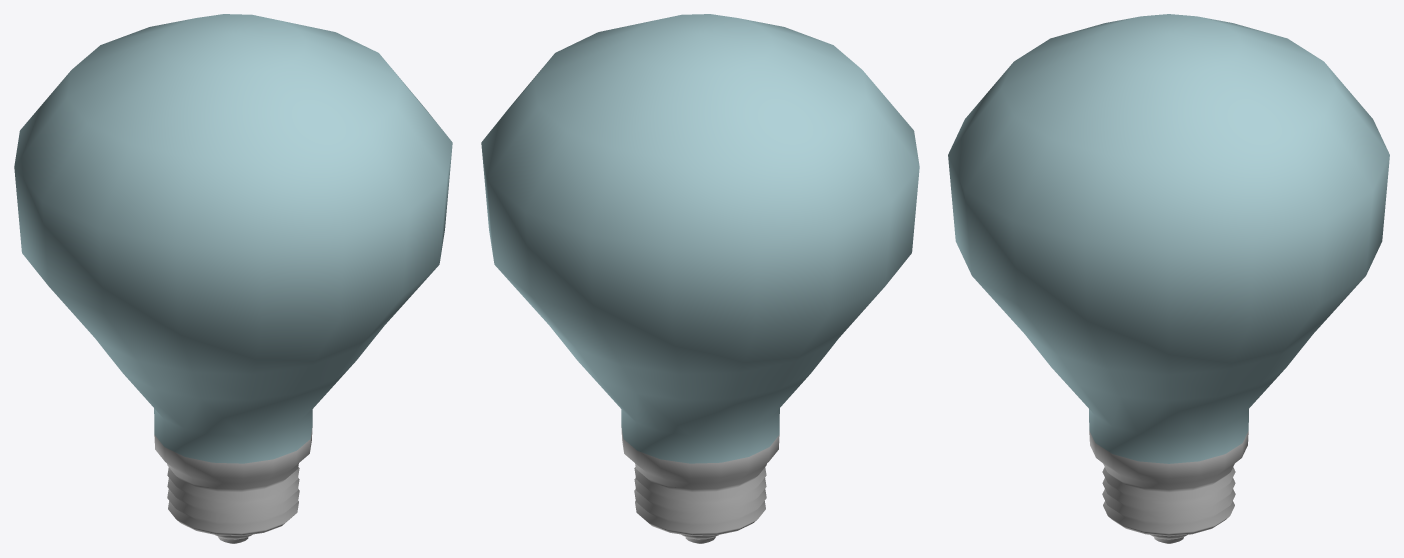
The model's file is lamp_dae.dae.
3 views of the same model, side by side, from view 1: azimuth 30°, elevation 25°; view 2: azimuth 150°, elevation 25°; view 3: azimuth 270°, elevation 25° (orthographic).
Parts seen in each view (by area): view 1: Circle; view 2: Circle; view 3: Circle.
Part boxes in pixels (x1,y1,x2,y2): Circle: (14,14,452,543); Circle: (481,14,919,543); Circle: (948,14,1389,543).
Size of the model in its own units: 3.48 by 3.48 by 4.41.
